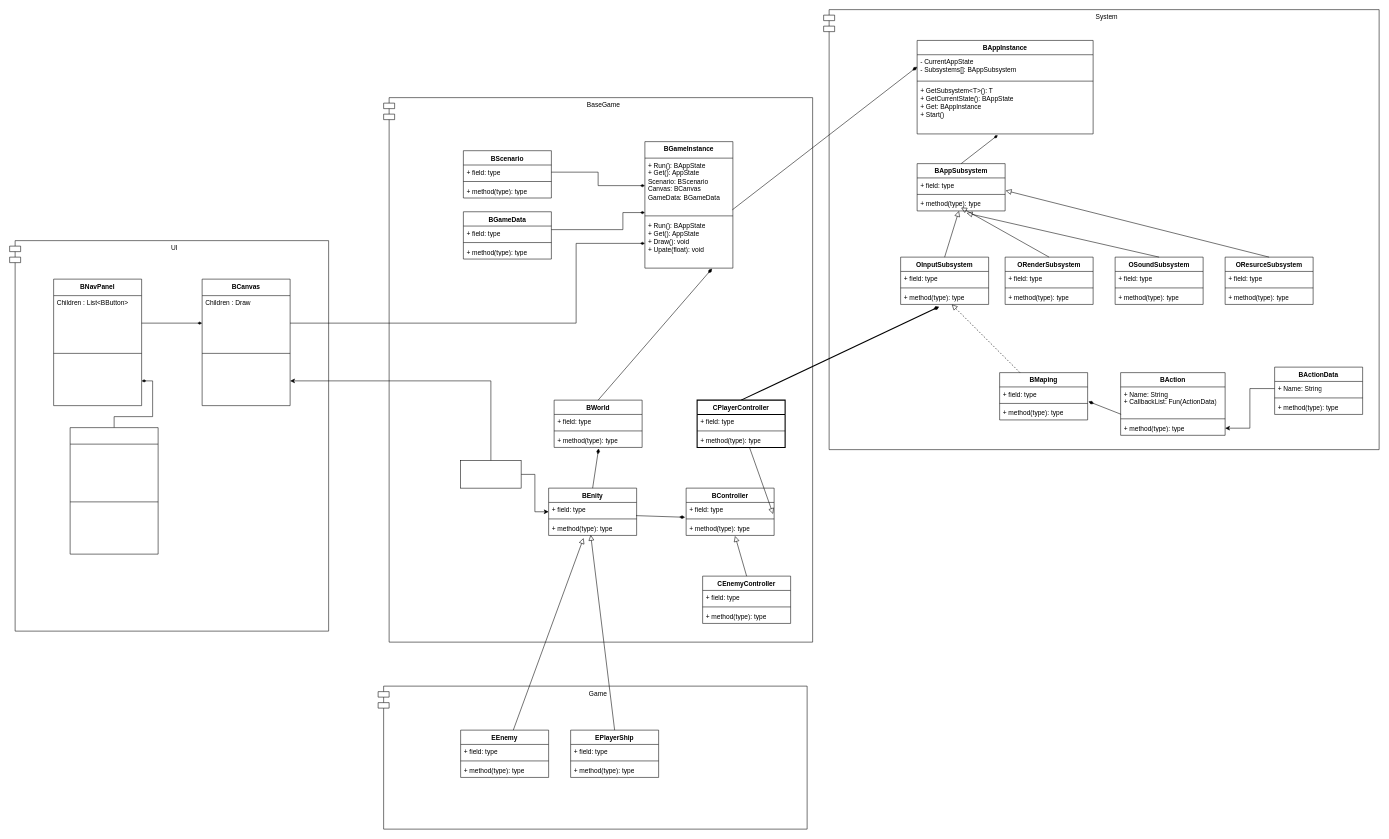
This 1389x839 diagram has some shape labels left out. Here are the shapes that lost their labels. From the top down, the centre of each, then its label:
the point at 114,490: BButton
the point at 490,474: «interface» IDraw
